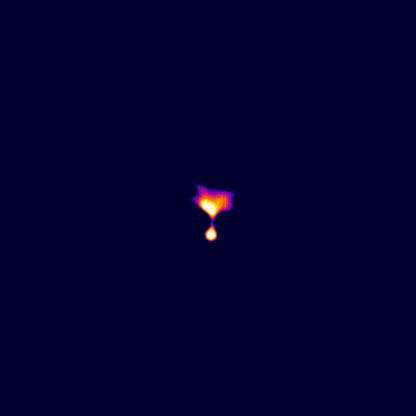drone: (190, 182, 236, 240)
